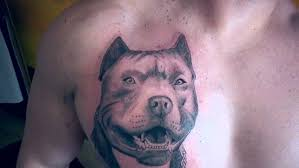Perro Pitbull: (97, 38, 201, 168)
